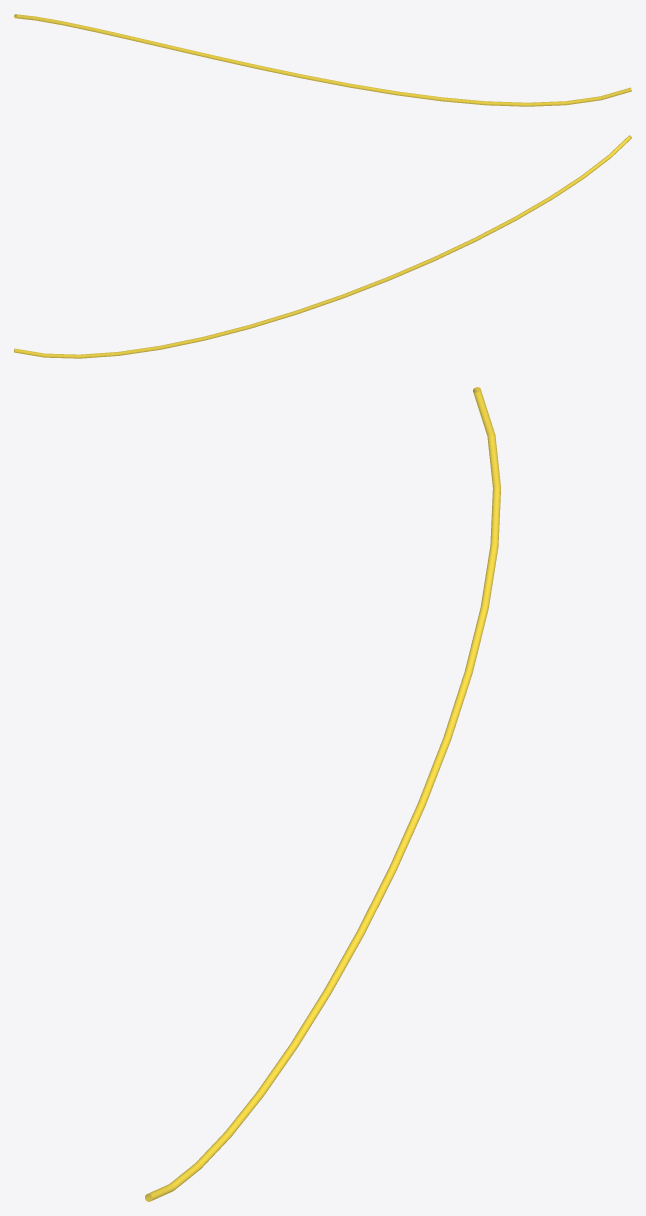
File: Event_17758602_track_179.fbx
3 views of the same model, one above another, from view 1: azimuth 30°, elevation 25°; view 2: azimuth 210°, elevation 25°; view 3: azimuth 270°, elevation 25° (orthographic). The views are drawn at different scales.
Visible parts, largest first — view 1: Model; view 2: Model; view 3: Model.
Boxes of the visible parts, x1=… form: Model: x1=14, y1=14, x2=631, y2=106; Model: x1=14, y1=135, x2=631, y2=358; Model: x1=145, y1=387, x2=500, y2=1201.
Bounding box in the file's own units: 6.03 × 1.69 × 1.74.
